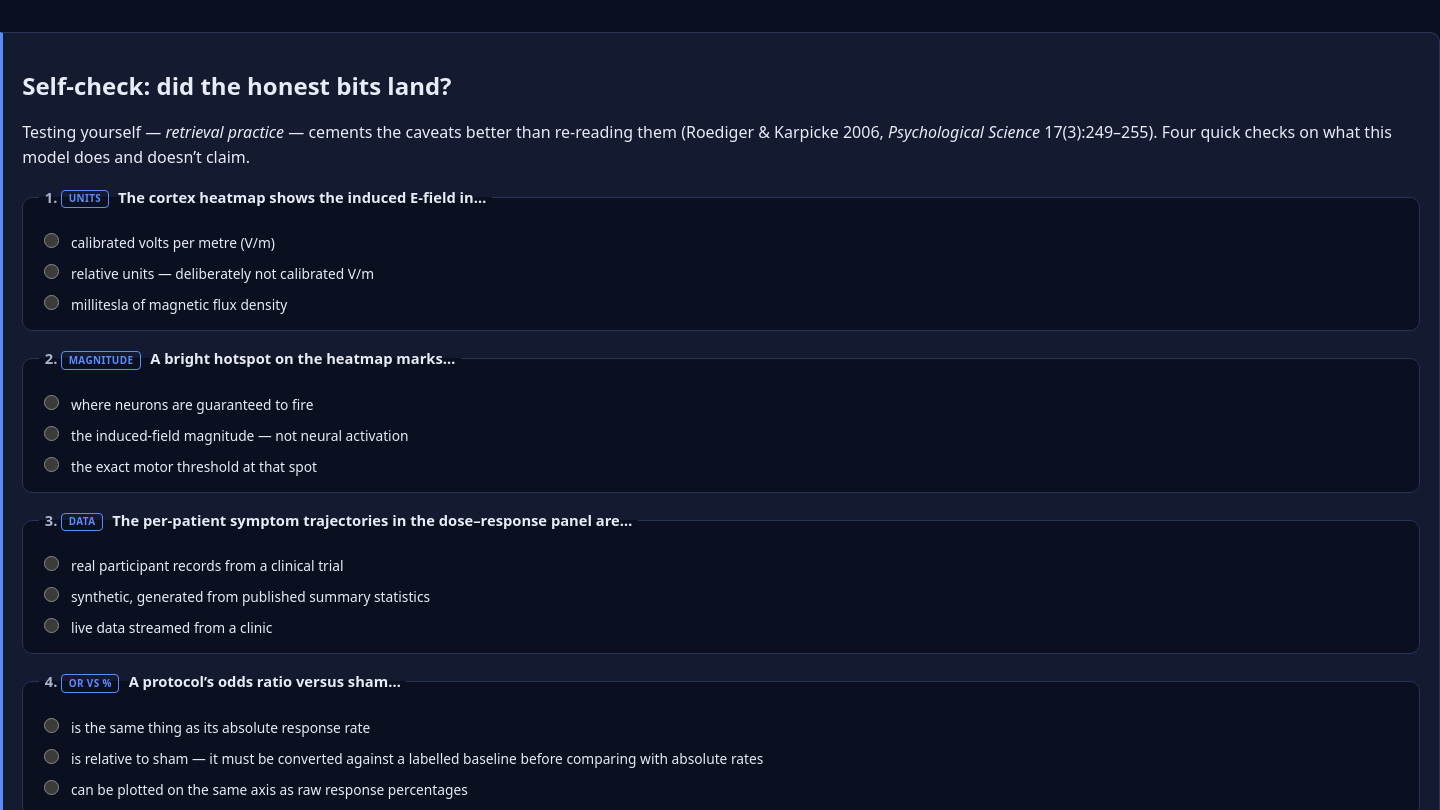
Test: SelfCheckQuiz (#21 — retrieval practice on the honesty gates) › re-answering after checking clears the stale verdicts
The width and height of the screenshot is (1440, 810).
Click the radio button labelled "relative units — deliberately not calibrated V/m": coordinates (52, 272) top-left (44, 264), bottom-right (59, 279)
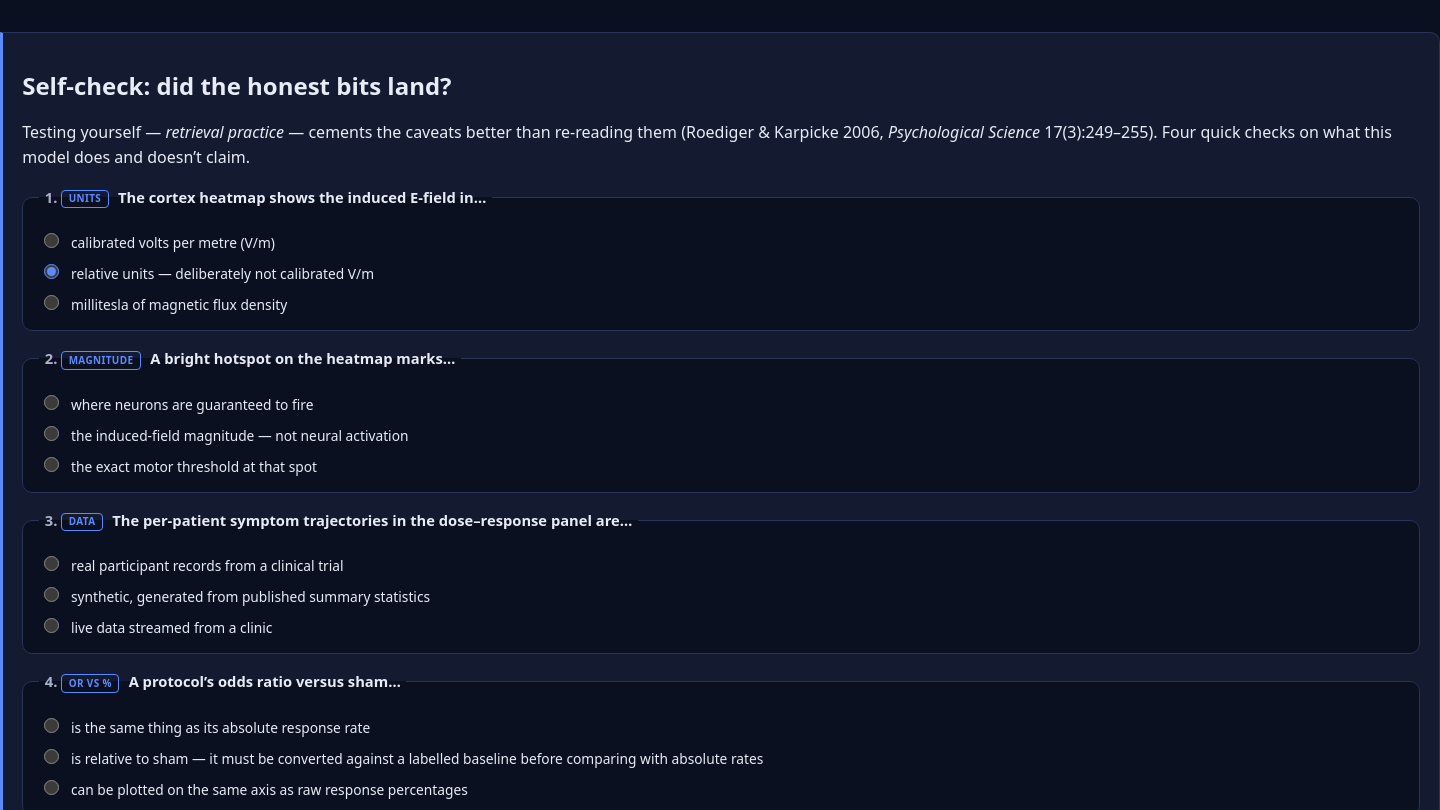
Click the radio button labelled "the induced-field magnitude — not neural activation": coordinates (52, 433) top-left (44, 426), bottom-right (59, 441)
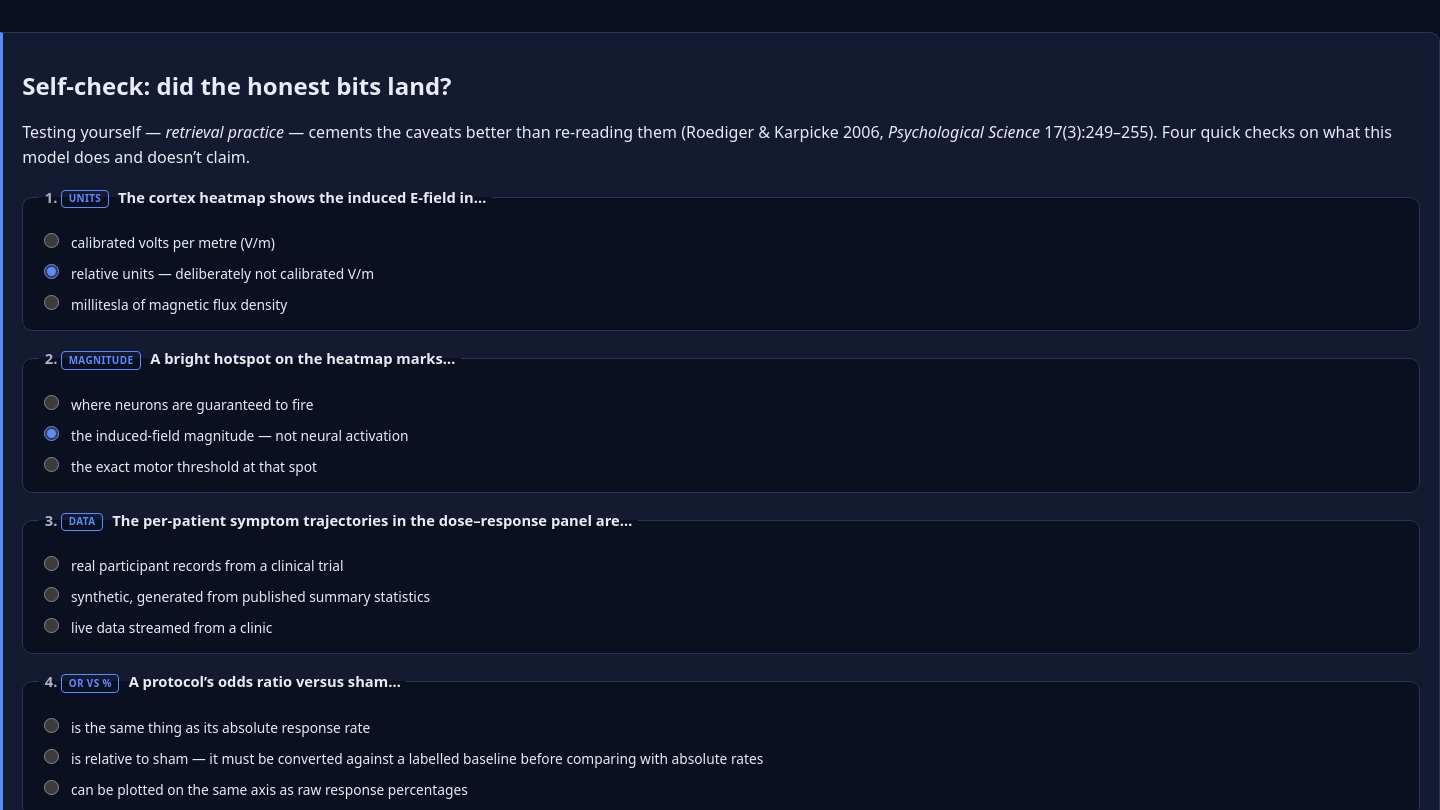
Click the radio button labelled "synthetic, generated from published summary statistics": coordinates (52, 595) top-left (44, 587), bottom-right (59, 602)
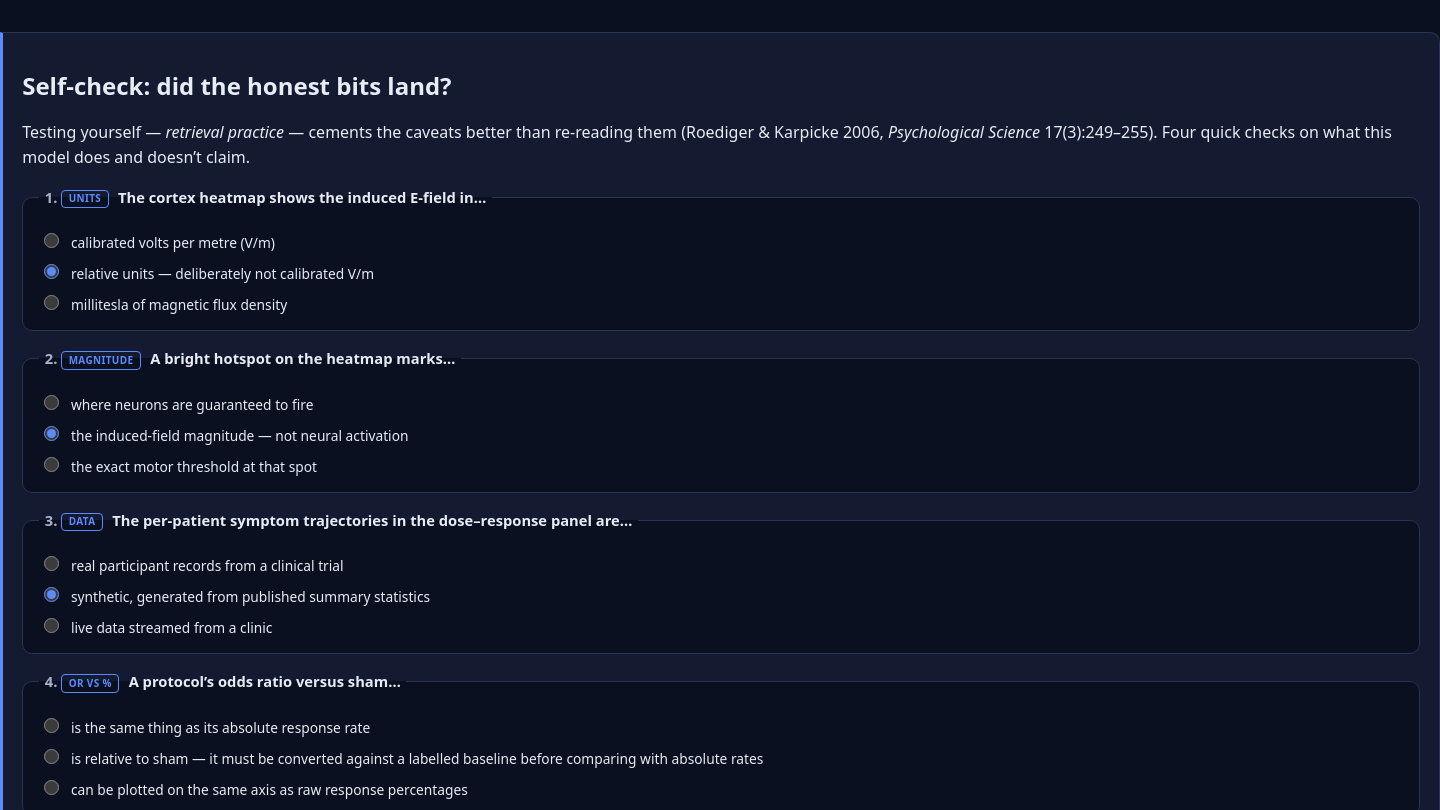
Click the radio button labelled "relative to sham": coordinates (52, 756) top-left (44, 749), bottom-right (59, 764)
(page scrolled)
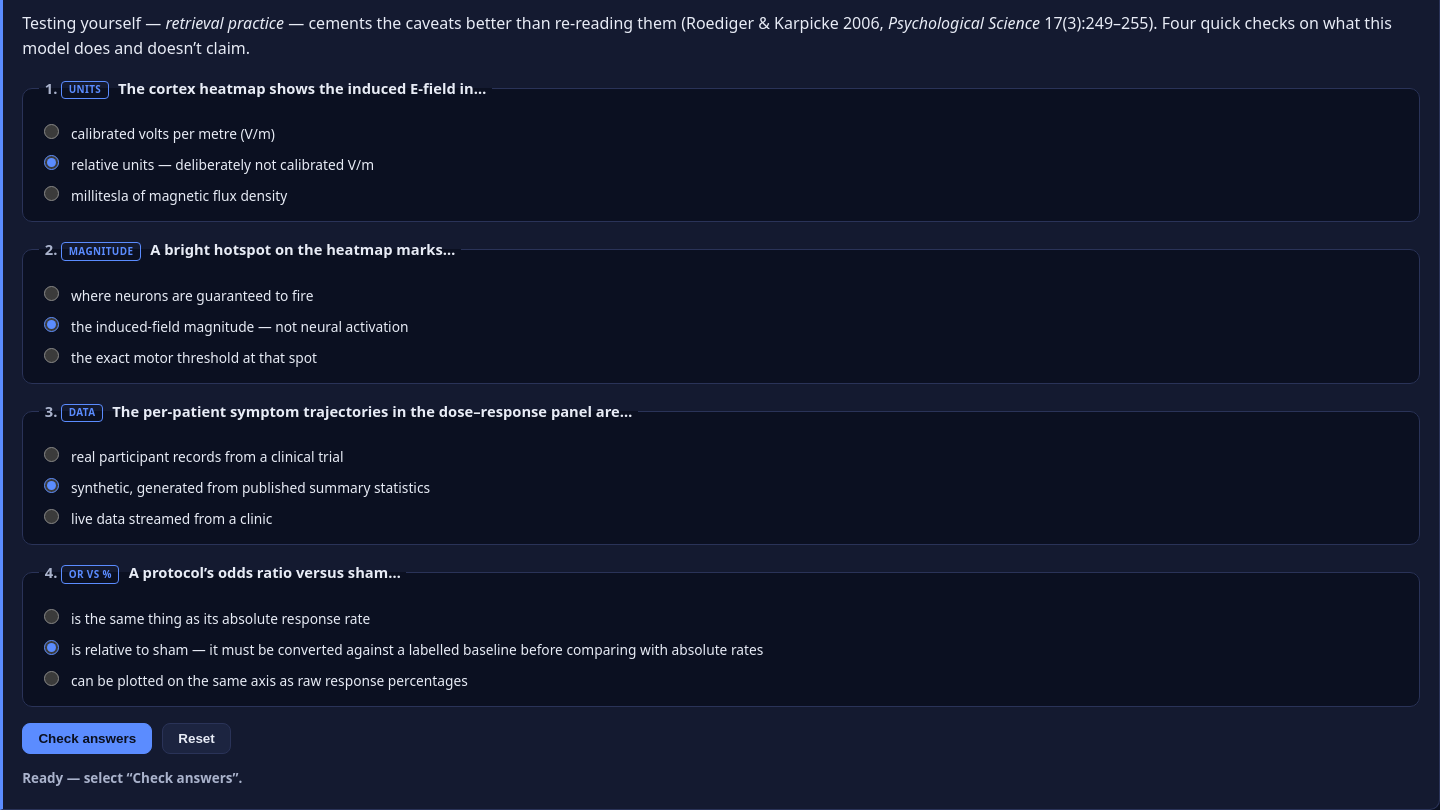
Click the button "Check answers": coordinates (87, 738) top-left (22, 723), bottom-right (152, 754)
(page scrolled)
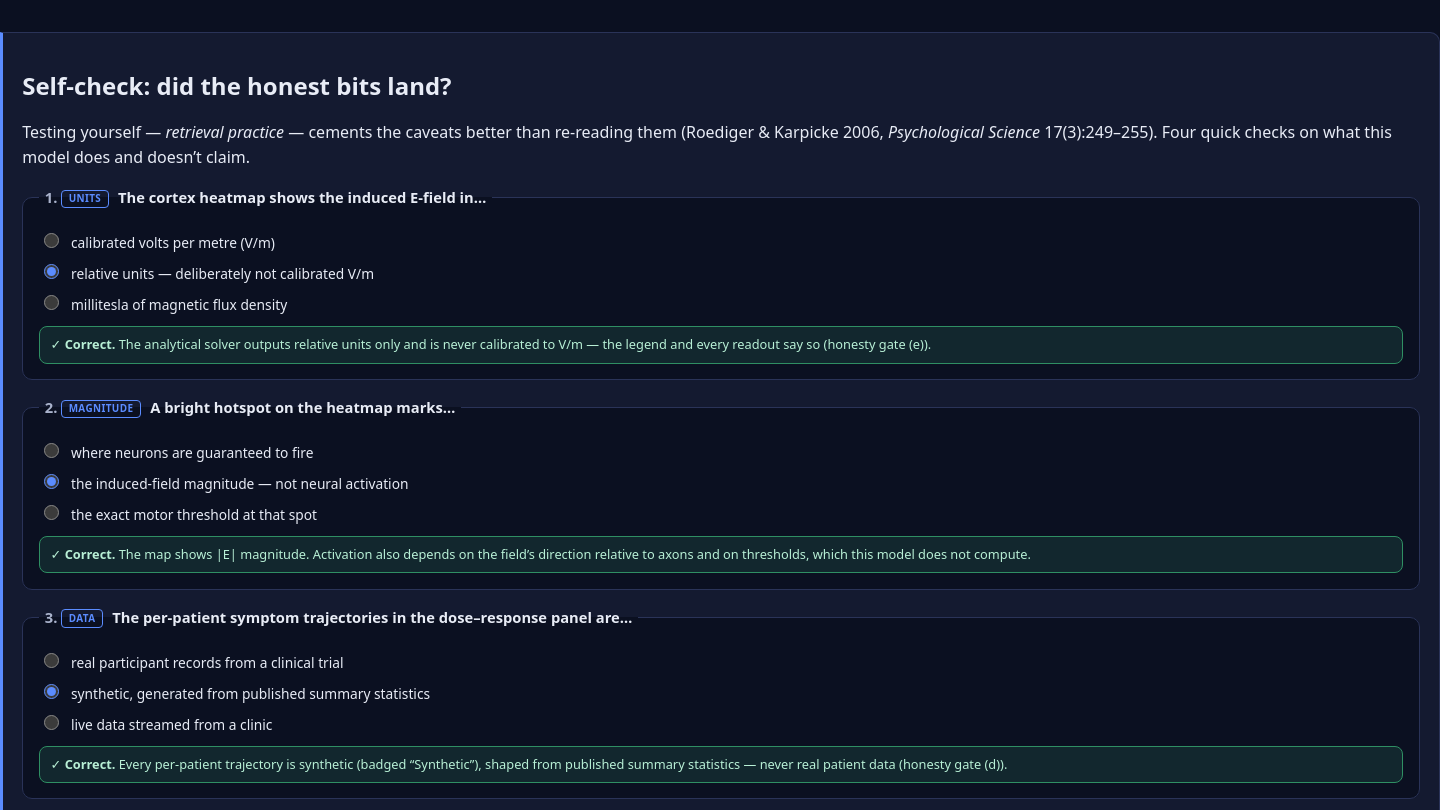
Expected: the text "✓ Correct." is shown 4 times
Click the radio button labelled "calibrated volts per metre (V/m)": coordinates (52, 241) top-left (44, 233), bottom-right (59, 248)
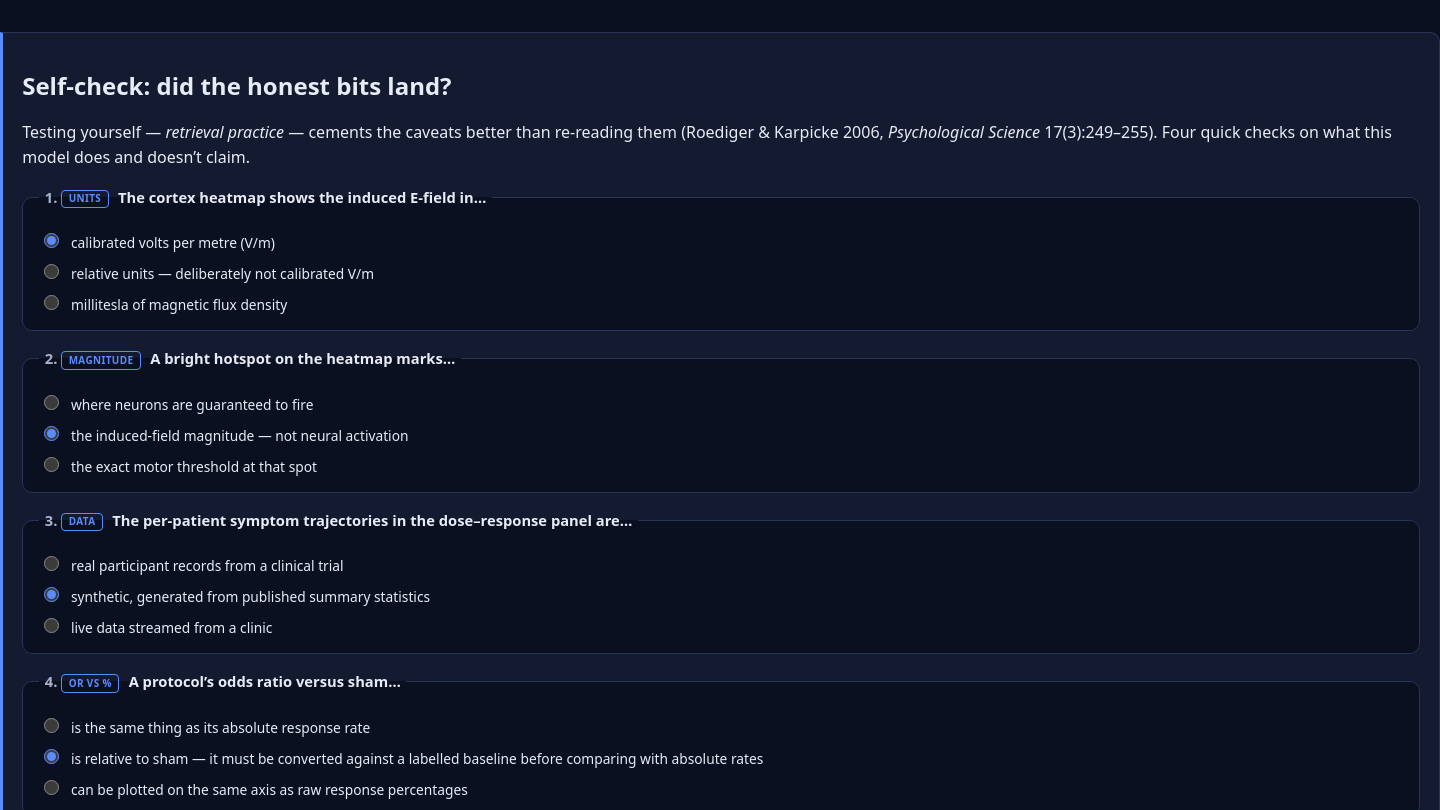
Expected: the text "✓ Correct." is gone
